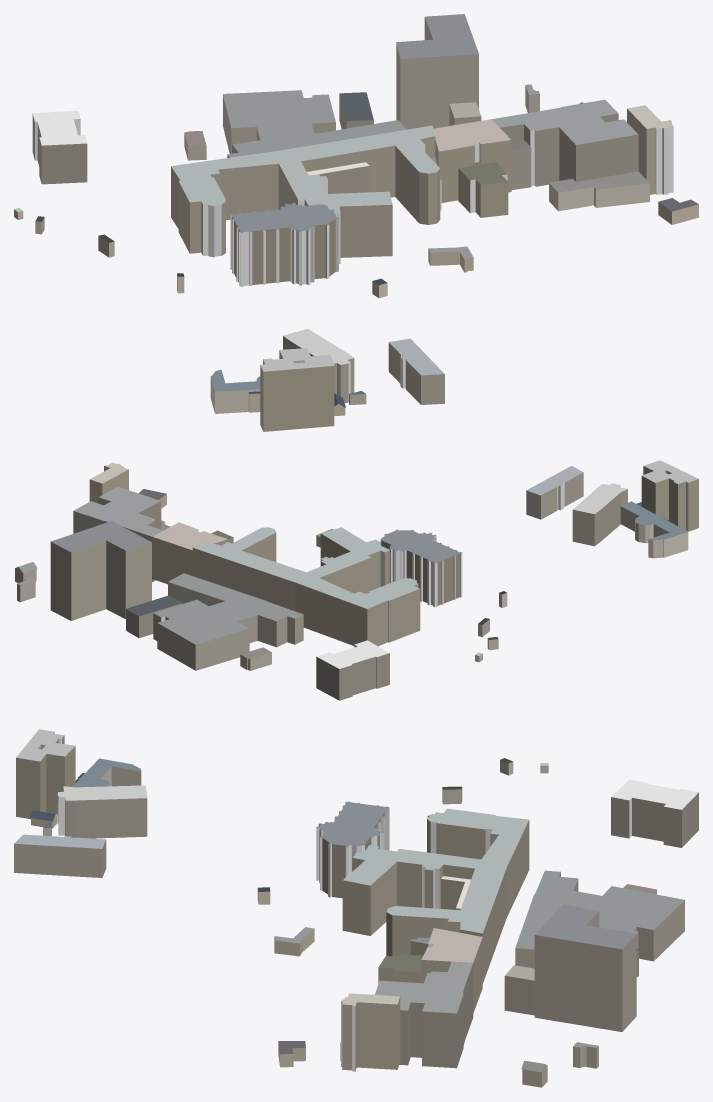
The picture shows the model from 3 angles, top to bottom: view 1: azimuth 30°, elevation 25°; view 2: azimuth 150°, elevation 25°; view 3: azimuth 270°, elevation 25°; orthographic projection. The views are drawn at different scales.
Parts seen in each view (by area): view 1: tuile; view 2: tuile; view 3: tuile.
Boxes of the visible parts, x1,y1,x2,y2 form: tuile: [14, 14, 698, 431]; tuile: [15, 460, 698, 700]; tuile: [14, 729, 698, 1087].
Bounding box in the file's own units: 267 × 42.24 × 268.
